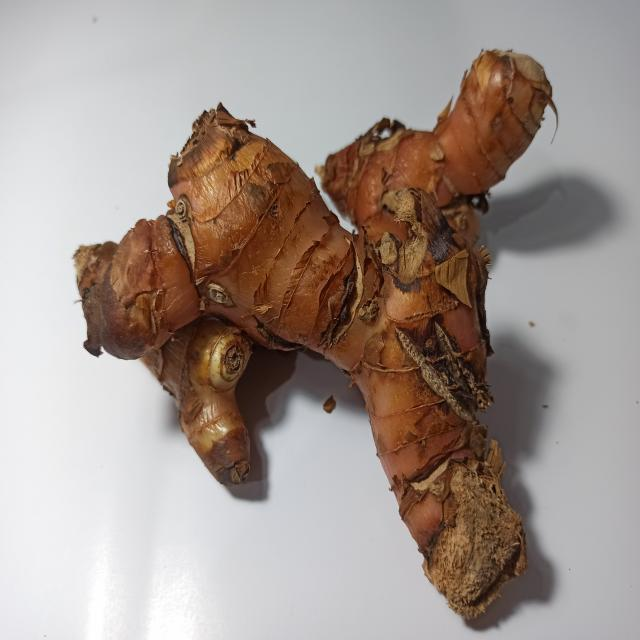ginger: (85, 54, 548, 565)
